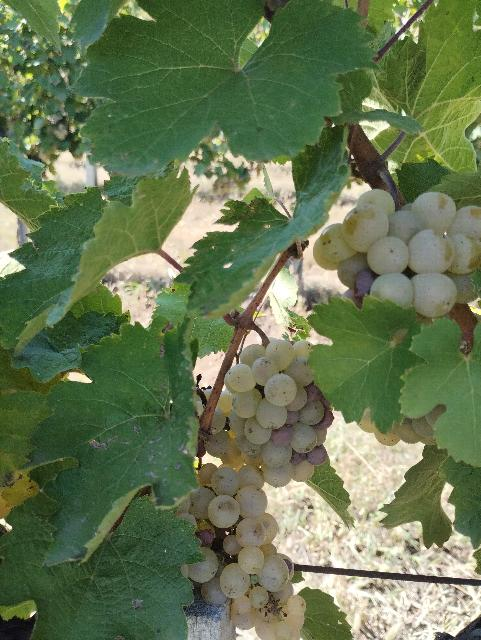grapes: (176, 464, 308, 640), (315, 189, 481, 319), (225, 340, 334, 469)
